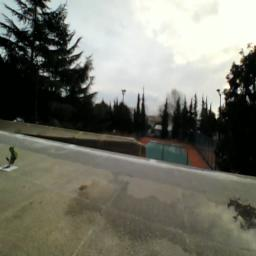herb: (6, 146, 20, 171)
